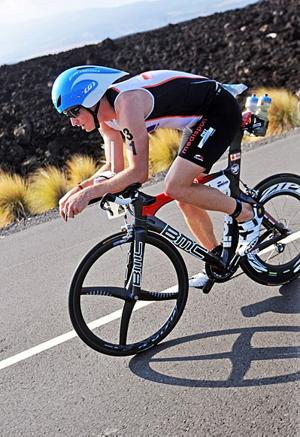person: (52, 65, 265, 290)
